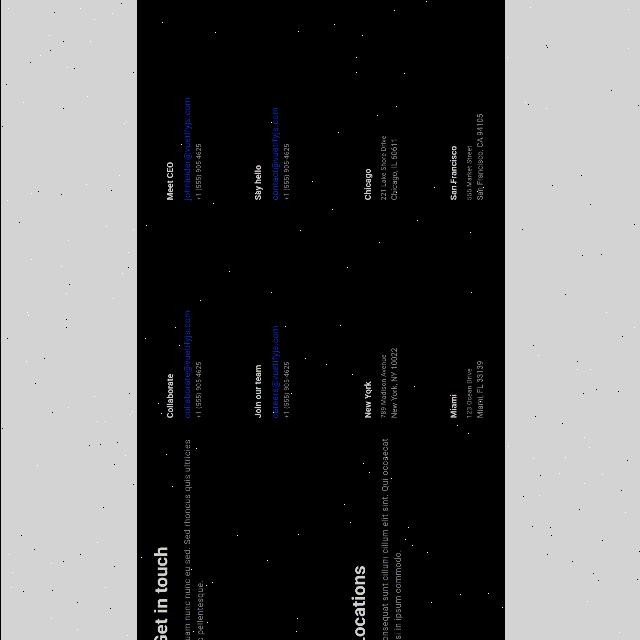QLabel: (182, 438, 205, 640), (380, 438, 400, 640), (150, 544, 168, 640), (350, 562, 366, 640), (181, 310, 191, 420), (182, 95, 192, 205), (270, 324, 280, 421), (270, 106, 278, 202), (475, 111, 483, 201), (390, 348, 398, 419), (378, 134, 386, 200), (389, 137, 397, 201), (475, 359, 483, 421), (282, 360, 290, 420), (194, 142, 202, 200), (282, 143, 290, 201), (194, 362, 202, 418), (379, 355, 386, 419), (464, 144, 472, 200), (448, 146, 456, 200), (464, 367, 472, 419), (253, 364, 260, 422), (252, 165, 262, 201), (166, 374, 174, 418), (363, 380, 371, 420), (165, 162, 172, 200), (363, 169, 371, 201), (448, 393, 456, 419)
VCard: (144, 229, 222, 437), (232, 229, 310, 437), (144, 12, 222, 218), (232, 12, 310, 218), (342, 11, 418, 219), (343, 228, 419, 436), (428, 229, 504, 437), (428, 12, 504, 218)
VDivider: (323, 10, 329, 640)
